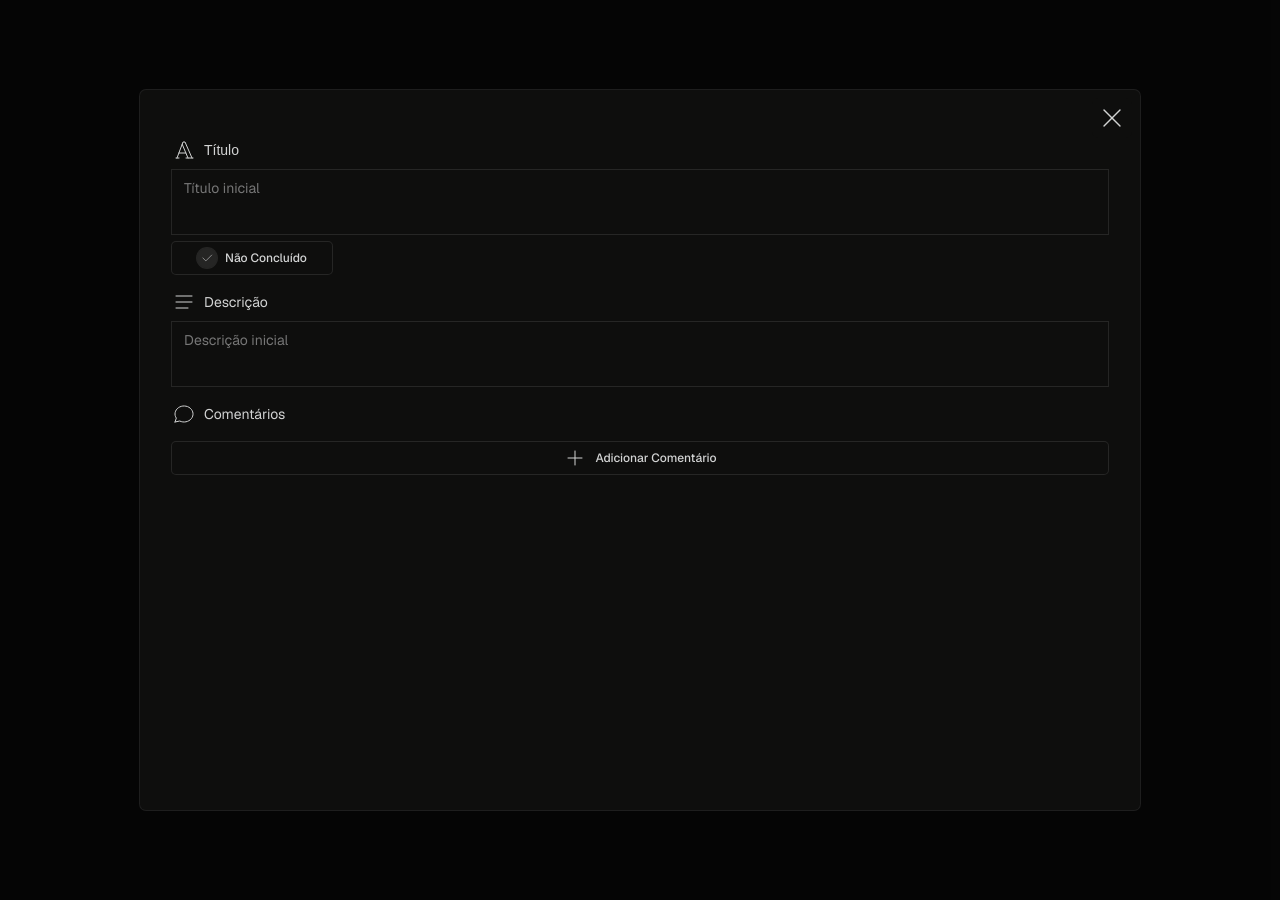
Test: TitleFieldComponent › abre o formulário de edição do título
This screenshot has width=1280, height=900.
What coordinates should you click on to do the following:
click the button with aria-label "btn-edit-title"
I would click on:
 (222, 188)
Its box is [172,170,1108,234].
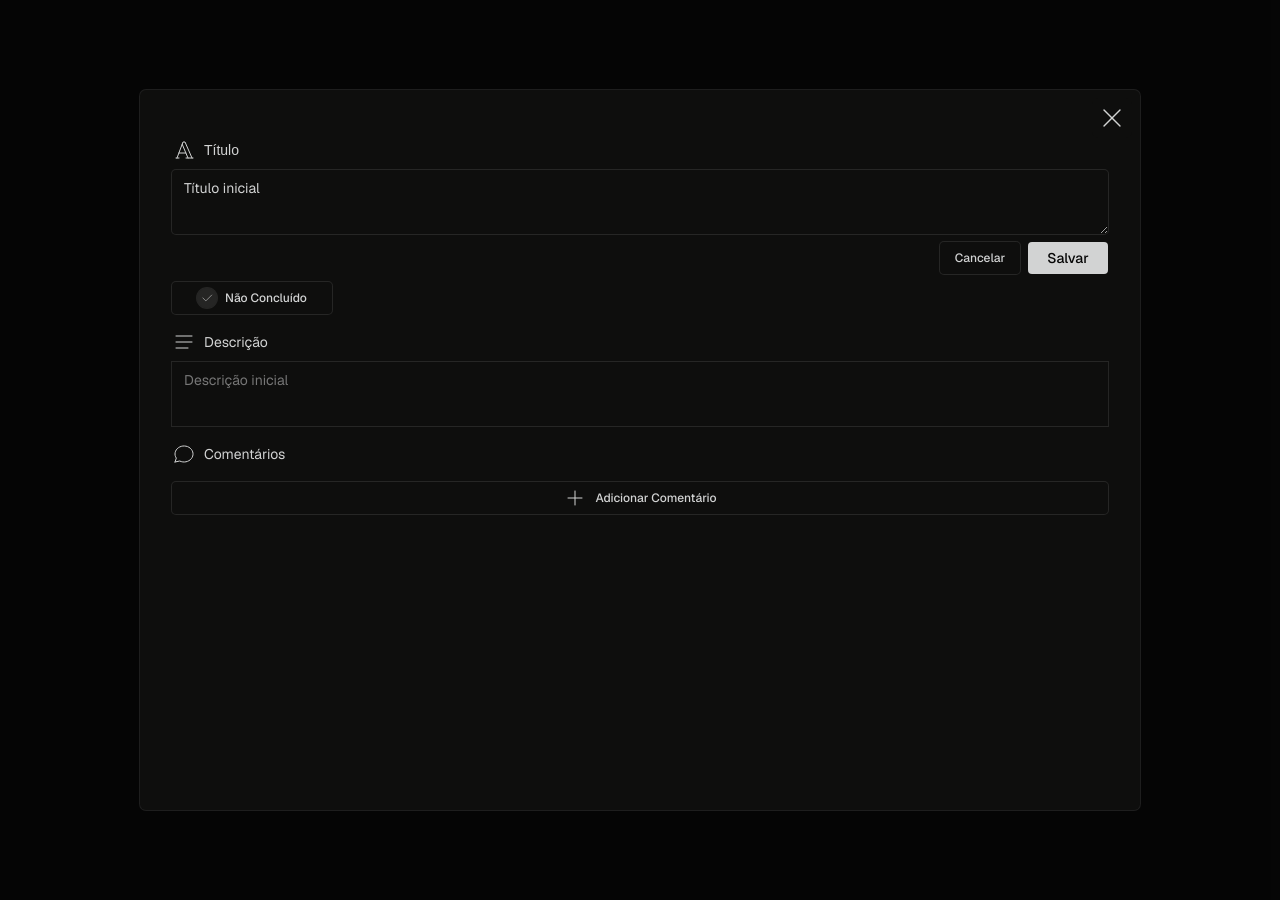
Expected: the form named "form-edit-title" is shown, [172,170,1108,274]
Expected: the text box named "edit-title" holds "Título inicial", [172,170,1108,234]
